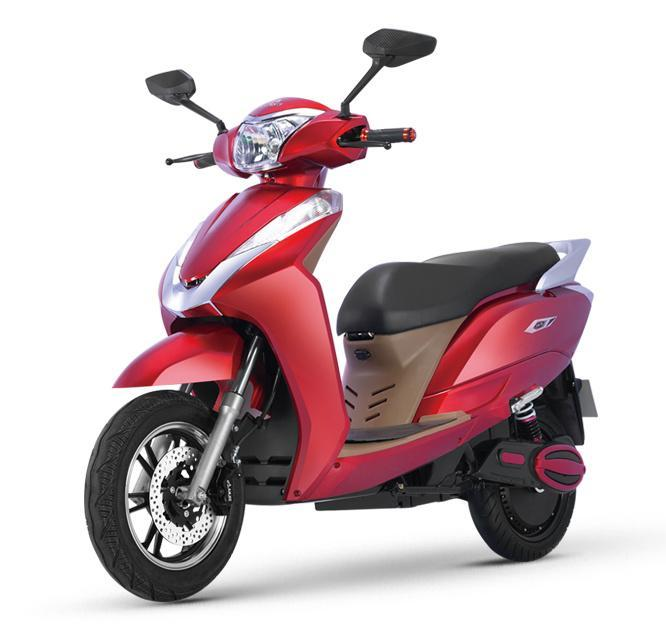motorbike: (82, 29, 598, 603)
